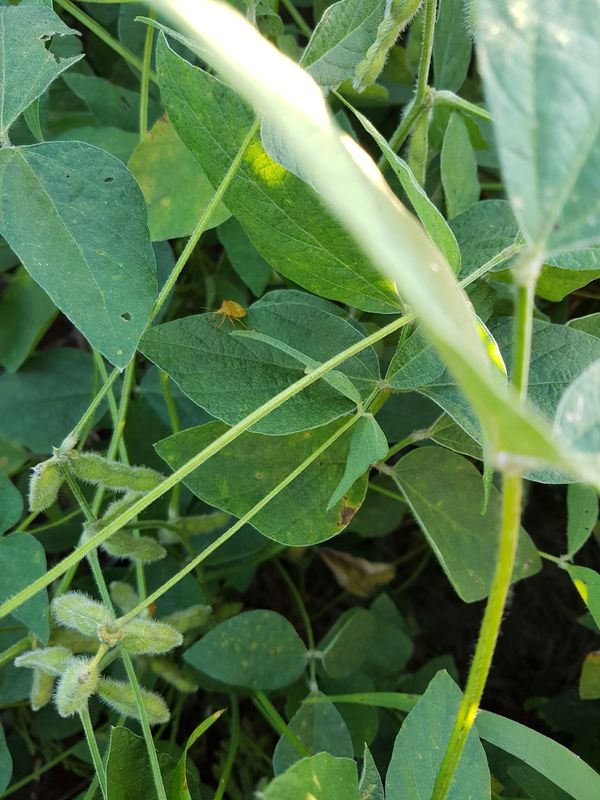Euschistus_heros_ninfa: (200, 294, 249, 335)
